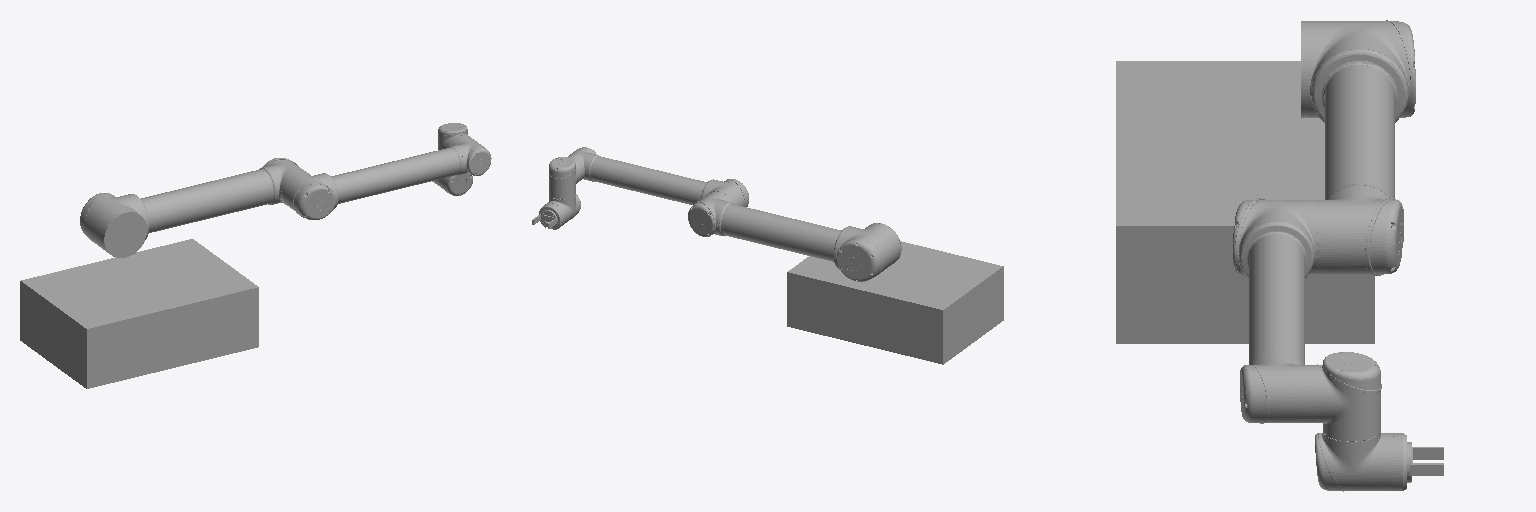
robot.urdf — ur5_on_base:
<?xml version="1.0" encoding="utf-8"?>
<robot name="ur5_on_base" xmlns:xacro="http://wiki.ros.org/xacro">
<link name="world"/>

  <!-- mobile base -->
  <link name="odom_tx"/>
  <link name="odom_tx_ty"/>
  <link name="mobile_base">
    <inertial>
      <mass value="10.0"/>
      <origin rpy="0 0 0" xyz="0 0 0"/>
      <inertia ixx="0.4" ixy="0" ixz="0" iyy="0.4" iyz="0" izz="0.4"/>
    </inertial>
    <visual>
      <geometry>
        <box size="0.6 0.4 0.2"/>
      </geometry>
      <origin rpy="0 0 0" xyz="0 0 0"/>
      <material name="LightGrey">
        <color rgba="0.7 0.7 0.7 1.0"/>
      </material>
    </visual>
    <collision>
      <geometry>
        <box size="0.6 0.4 0.2"/>
      </geometry>
      <origin rpy="0 0 0" xyz="0 0 0"/>
    </collision>
  </link>
  <joint name="base_link_x" type="prismatic">
    <parent link="world"/>
    <child link="odom_tx"/>
    <origin rpy="0.0 0.0 0.0" xyz="0.0 0.0 0.0"/>
    <axis xyz="1 0 0"/>
    <limit effort="100" lower="-1.0" upper="1.0" velocity="1.0"/>
  </joint>
  <joint name="base_link_y" type="prismatic">
    <parent link="odom_tx"/>
    <child link="odom_tx_ty"/>
    <origin rpy="0.0 0.0 0.0" xyz="0.0 0.0 0.0"/>
    <axis xyz="0 1 0"/>
    <limit effort="100" lower="-1.0" upper="1.0" velocity="1.0"/>
  </joint>
  <joint name="base_link_rz" type="revolute">
    <parent link="odom_tx_ty"/>
    <child link="mobile_base"/>
    <origin rpy="0.0 0.0 0.0" xyz="0.0 0.0 0.0"/>
    <axis xyz="0 0 1"/>
    <limit effort="100" lower="-3.14" upper="3.14" velocity="3.0"/>
  </joint>
  <joint name="base_to_base_link" type="fixed">
    <parent link="mobile_base"/>
    <child link="base_link"/>
    <origin rpy="0.0 0.0 0.0" xyz="0.0 0.0 0.1"/>
  </joint>

  <!-- robot arm -->
  <link name="base_link">
    <visual>
      <geometry>
        <mesh filename="package://ur_description/meshes/ur10/visual/base.dae"/>
      </geometry>
      <material name="LightGrey">
        <color rgba="0.7 0.7 0.7 1.0"/>
      </material>
    </visual>
    <collision>
      <geometry>
        <mesh filename="package://ur_description/meshes/ur10/collision/base.stl"/>
      </geometry>
    </collision>
    <inertial>
      <mass value="4.0"/>
      <origin rpy="0 0 0" xyz="0.0 0.0 0.0"/>
      <inertia ixx="0.00443333156" ixy="0.0" ixz="0.0" iyy="0.00443333156" iyz="0.0" izz="0.0072"/>
    </inertial>
  </link>

  <!-- ROS base_link to UR 'Base' Coordinates transform -->
  <link name="base">
    <inertial>
      <mass value="0"/>
      <origin rpy="0 0 0" xyz="0 0 0"/>
      <inertia ixx="0" ixy="0" ixz="0" iyy="0" iyz="0" izz="0"/>
    </inertial>
  </link>
  <joint name="base_link-base_fixed_joint" type="fixed">
    <!-- NOTE: this rotation is only needed as long as base_link itself is
                 not corrected wrt the real robot (ie: rotated over 180
                 degrees)
      -->
    <origin rpy="0 0 -3.14159265" xyz="0 0 0"/>
    <parent link="base_link"/>
    <child link="base"/>
  </joint>

  <joint name="shoulder_pan_joint" type="revolute">
    <parent link="base_link"/>
    <child link="shoulder_link"/>
    <origin rpy="0.0 0.0 0.0" xyz="0.0 0.0 0.1273"/>
    <axis xyz="0 0 1"/>
    <limit effort="330.0" lower="-6.28318530718" upper="6.28318530718" velocity="2.16"/>
    <dynamics damping="0.0" friction="0.0"/>
  </joint>
  <link name="shoulder_link">
    <visual>
      <geometry>
        <mesh filename="package://ur_description/meshes/ur10/visual/shoulder.dae"/>
      </geometry>
      <material name="LightGrey">
        <color rgba="0.7 0.7 0.7 1.0"/>
      </material>
    </visual>
    <collision>
      <geometry>
        <mesh filename="package://ur_description/meshes/ur10/collision/shoulder.stl"/>
      </geometry>
    </collision>
    <inertial>
      <mass value="7.778"/>
      <origin rpy="0 0 0" xyz="0.0 0.0 0.0"/>
      <inertia ixx="0.0314743125769" ixy="0.0" ixz="0.0" iyy="0.0314743125769" iyz="0.0" izz="0.021875625"/>
    </inertial>
  </link>
  <joint name="shoulder_lift_joint" type="revolute">
    <parent link="shoulder_link"/>
    <child link="upper_arm_link"/>
    <origin rpy="0.0 1.57079632679 0.0" xyz="0.0 0.220941 0.0"/>
    <axis xyz="0 1 0"/>
    <limit effort="330.0" lower="-6.28318530718" upper="6.28318530718" velocity="2.16"/>
    <dynamics damping="0.0" friction="0.0"/>
  </joint>
  <link name="upper_arm_link">
    <visual>
      <geometry>
        <mesh filename="package://ur_description/meshes/ur10/visual/upperarm.dae"/>
      </geometry>
      <material name="LightGrey">
        <color rgba="0.7 0.7 0.7 1.0"/>
      </material>
    </visual>
    <collision>
      <geometry>
        <mesh filename="package://ur_description/meshes/ur10/collision/upperarm.stl"/>
      </geometry>
    </collision>
    <inertial>
      <mass value="12.93"/>
      <origin rpy="0 0 0" xyz="0.0 0.0 0.306"/>
      <inertia ixx="0.421753803798" ixy="0.0" ixz="0.0" iyy="0.421753803798" iyz="0.0" izz="0.036365625"/>
    </inertial>
  </link>
  <joint name="elbow_joint" type="revolute">
    <parent link="upper_arm_link"/>
    <child link="forearm_link"/>
    <origin rpy="0.0 0.0 0.0" xyz="0.0 -0.1719 0.612"/>
    <axis xyz="0 1 0"/>
    <limit effort="150.0" lower="-3.14159265359" upper="3.14159265359" velocity="3.15"/>
    <dynamics damping="0.0" friction="0.0"/>
  </joint>
  <link name="forearm_link">
    <visual>
      <geometry>
        <mesh filename="package://ur_description/meshes/ur10/visual/forearm.dae"/>
      </geometry>
      <material name="LightGrey">
        <color rgba="0.7 0.7 0.7 1.0"/>
      </material>
    </visual>
    <collision>
      <geometry>
        <mesh filename="package://ur_description/meshes/ur10/collision/forearm.stl"/>
      </geometry>
    </collision>
    <inertial>
      <mass value="3.87"/>
      <origin rpy="0 0 0" xyz="0.0 0.0 0.28615"/>
      <inertia ixx="0.111069694097" ixy="0.0" ixz="0.0" iyy="0.111069694097" iyz="0.0" izz="0.010884375"/>
    </inertial>
  </link>
  <joint name="wrist_1_joint" type="revolute">
    <parent link="forearm_link"/>
    <child link="wrist_1_link"/>
    <origin rpy="0.0 1.57079632679 0.0" xyz="0.0 0.0 0.5723"/>
    <axis xyz="0 1 0"/>
    <limit effort="54.0" lower="-6.28318530718" upper="6.28318530718" velocity="3.2"/>
    <dynamics damping="0.0" friction="0.0"/>
  </joint>
  <link name="wrist_1_link">
    <visual>
      <geometry>
        <mesh filename="package://ur_description/meshes/ur10/visual/wrist1.dae"/>
      </geometry>
      <material name="LightGrey">
        <color rgba="0.7 0.7 0.7 1.0"/>
      </material>
    </visual>
    <collision>
      <geometry>
        <mesh filename="package://ur_description/meshes/ur10/collision/wrist1.stl"/>
      </geometry>
    </collision>
    <inertial>
      <mass value="1.96"/>
      <origin rpy="0 0 0" xyz="0.0 0.0 0.0"/>
      <inertia ixx="0.0051082479567" ixy="0.0" ixz="0.0" iyy="0.0051082479567" iyz="0.0" izz="0.0055125"/>
    </inertial>
  </link>
  <joint name="wrist_2_joint" type="revolute">
    <parent link="wrist_1_link"/>
    <child link="wrist_2_link"/>
    <origin rpy="0.0 0.0 0.0" xyz="0.0 0.1149 0.0"/>
    <axis xyz="0 0 1"/>
    <limit effort="54.0" lower="-6.28318530718" upper="6.28318530718" velocity="3.2"/>
    <dynamics damping="0.0" friction="0.0"/>
  </joint>
  <link name="wrist_2_link">
    <visual>
      <geometry>
        <mesh filename="package://ur_description/meshes/ur10/visual/wrist2.dae"/>
      </geometry>
      <material name="LightGrey">
        <color rgba="0.7 0.7 0.7 1.0"/>
      </material>
    </visual>
    <collision>
      <geometry>
        <mesh filename="package://ur_description/meshes/ur10/collision/wrist2.stl"/>
      </geometry>
    </collision>
    <inertial>
      <mass value="1.96"/>
      <origin rpy="0 0 0" xyz="0.0 0.0 0.0"/>
      <inertia ixx="0.0051082479567" ixy="0.0" ixz="0.0" iyy="0.0051082479567" iyz="0.0" izz="0.0055125"/>
    </inertial>
  </link>
  <joint name="wrist_3_joint" type="revolute">
    <parent link="wrist_2_link"/>
    <child link="wrist_3_link"/>
    <origin rpy="0.0 0.0 0.0" xyz="0.0 0.0 0.1157"/>
    <axis xyz="0 1 0"/>
    <limit effort="54.0" lower="-6.28318530718" upper="6.28318530718" velocity="3.2"/>
    <dynamics damping="0.0" friction="0.0"/>
  </joint>
  <link name="wrist_3_link">
    <visual>
      <geometry>
        <mesh filename="package://ur_description/meshes/ur10/visual/wrist3.dae"/>
      </geometry>
      <material name="LightGrey">
        <color rgba="0.7 0.7 0.7 1.0"/>
      </material>
    </visual>
    <collision>
      <geometry>
        <mesh filename="package://ur_description/meshes/ur10/collision/wrist3.stl"/>
      </geometry>
    </collision>
    <inertial>
      <mass value="0.202"/>
      <origin rpy="0 0 0" xyz="0.0 0.0 0.0"/>
      <inertia ixx="0.000526462289415" ixy="0.0" ixz="0.0" iyy="0.000526462289415" iyz="0.0" izz="0.000568125"/>
    </inertial>
  </link>
  <joint name="ee_fixed_joint" type="fixed">
    <parent link="wrist_3_link"/>
    <child link="ee_link"/>
    <origin rpy="0.0 0.0 1.57079632679" xyz="0.0 0.0922 0.0"/>
  </joint>
  <link name="ee_link">
    <collision>
      <geometry>
        <box size="0.01 0.01 0.01"/>
      </geometry>
      <origin rpy="0 0 0" xyz="-0.01 0 0"/>
    </collision>
    <inertial>
      <mass value="0.0"/>
      <origin rpy="0 0 0" xyz="0 0 0"/>
      <inertia ixx="0.0" ixy="0.0" ixz="0.0" iyy="0.0" iyz="0.0" izz="0.0"/>
    </inertial>
  </link>

  <!-- end effector -->
  <!-- Frame coincident with all-zeros TCP on UR controller -->
  <link name="tool0">
    <inertial>
      <mass value="0"/>
      <origin rpy="0 0 0" xyz="0 0 0"/>
      <inertia ixx="0" ixy="0" ixz="0" iyy="0" iyz="0" izz="0"/>
    </inertial>
    <visual>
      <geometry>
	<box size="0.005 0.02 0.05" />
      </geometry>
      <origin xyz="0.03 0 0.035" />
      <material name="LightGrey">
        <color rgba="0.7 0.7 0.7 1.0"/>
      </material>
    </visual>
    <visual>
      <geometry>
	<box size="0.005 0.02 0.05" />
      </geometry>
      <origin xyz="-0.03 0 0.035" />
      <material name="LightGrey">
        <color rgba="0.7 0.7 0.7 1.0"/>
      </material>
    </visual>
    <visual>
      <geometry>
	<box size="0.065 0.02 0.005" />
      </geometry>
      <origin xyz="0 0 0.01" />
      <material name="LightGrey">
        <color rgba="0.7 0.7 0.7 1.0"/>
      </material>
    </visual>

    <collision>
      <geometry>
	<box size="0.005 0.02 0.05" />
      </geometry>
      <origin xyz="0.03 0 0.035" />
    </collision>
    <collision>
      <geometry>
	<box size="0.005 0.02 0.05" />
      </geometry>
      <origin xyz="-0.03 0 0.035" />
    </collision>
    <collision>
      <geometry>
	<box size="0.065 0.02 0.005" />
      </geometry>
      <origin xyz="0 0 0.01" />
    </collision>
  </link>
  <joint name="wrist_3_link-tool0_fixed_joint" type="fixed">
    <origin rpy="-1.570796325 0 0" xyz="0 0.0823 0"/>
    <parent link="wrist_3_link"/>
    <child link="tool0"/>
  </joint>

</robot>

--- Facts derived from the render (not from the file) ---
The picture shows the robot from 3 angles, left to right: view 1: azimuth 30°, elevation 25°; view 2: azimuth 150°, elevation 25°; view 3: azimuth 270°, elevation 25°; orthographic projection.
Model ur5_on_base with 14 links and 13 joints (7 revolute, 2 prismatic, 4 fixed), rooted at world, posed every joint at zero.
Links seen in each view (by area): view 1: mobile_base, upper_arm_link, forearm_link, wrist_2_link, wrist_1_link; view 2: mobile_base, upper_arm_link, forearm_link, wrist_1_link; view 3: mobile_base, upper_arm_link, forearm_link, wrist_1_link, wrist_2_link, wrist_3_link, tool0.
Link boxes in pixels (box(x1,y1,x2,y2)): mobile_base: box(20, 239, 258, 388); upper_arm_link: box(80, 158, 305, 257); forearm_link: box(280, 135, 491, 219); wrist_2_link: box(433, 173, 472, 195); wrist_1_link: box(438, 123, 467, 149); mobile_base: box(787, 241, 1003, 364); upper_arm_link: box(688, 192, 901, 281); forearm_link: box(568, 147, 748, 206); wrist_1_link: box(549, 157, 581, 199); mobile_base: box(1116, 61, 1374, 343); upper_arm_link: box(1301, 20, 1415, 275); forearm_link: box(1233, 198, 1320, 423); wrist_1_link: box(1317, 352, 1381, 441); wrist_2_link: box(1315, 432, 1391, 491); wrist_3_link: box(1392, 433, 1411, 490); tool0: box(1410, 447, 1443, 475).
Bounding box of the posed robot: 1.53 × 0.5062 × 0.4289 m (x, y, z).
5 mesh visuals loaded from 7 distinct referenced files (5 Collada DAE); not drawn: 2 (reference not matched to a file when rendering).